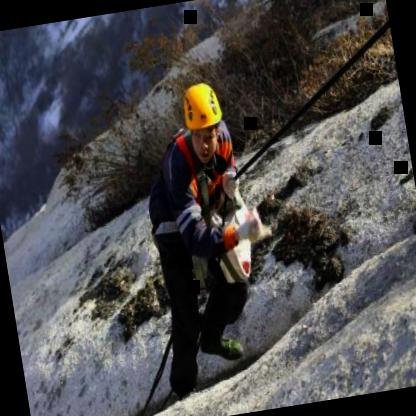helmet: (172, 72, 232, 160)
